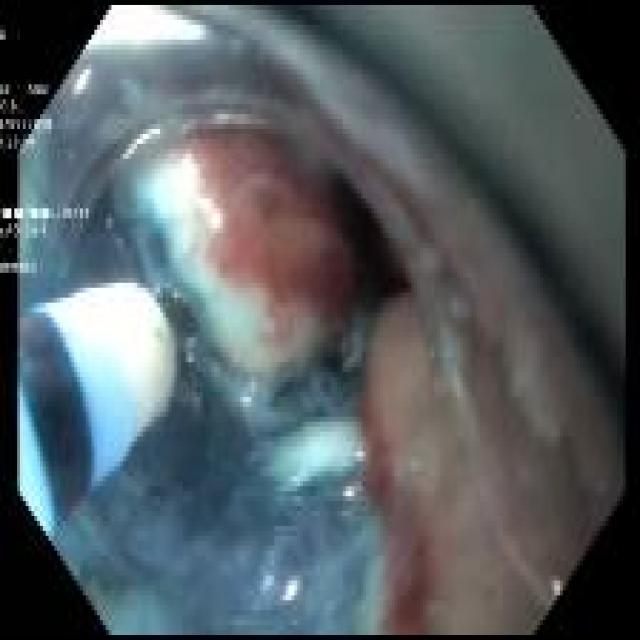color misalignment: (2, 204, 91, 242), (1, 103, 55, 150), (1, 262, 39, 276), (27, 84, 50, 97), (2, 83, 12, 96), (2, 29, 8, 41)
contrast: (335, 178, 414, 335)
instrument: (19, 286, 204, 546)
saturation: (49, 286, 162, 375), (87, 9, 206, 49)
specularity: (162, 156, 221, 228), (123, 129, 158, 159), (75, 70, 91, 93), (285, 585, 299, 606)
